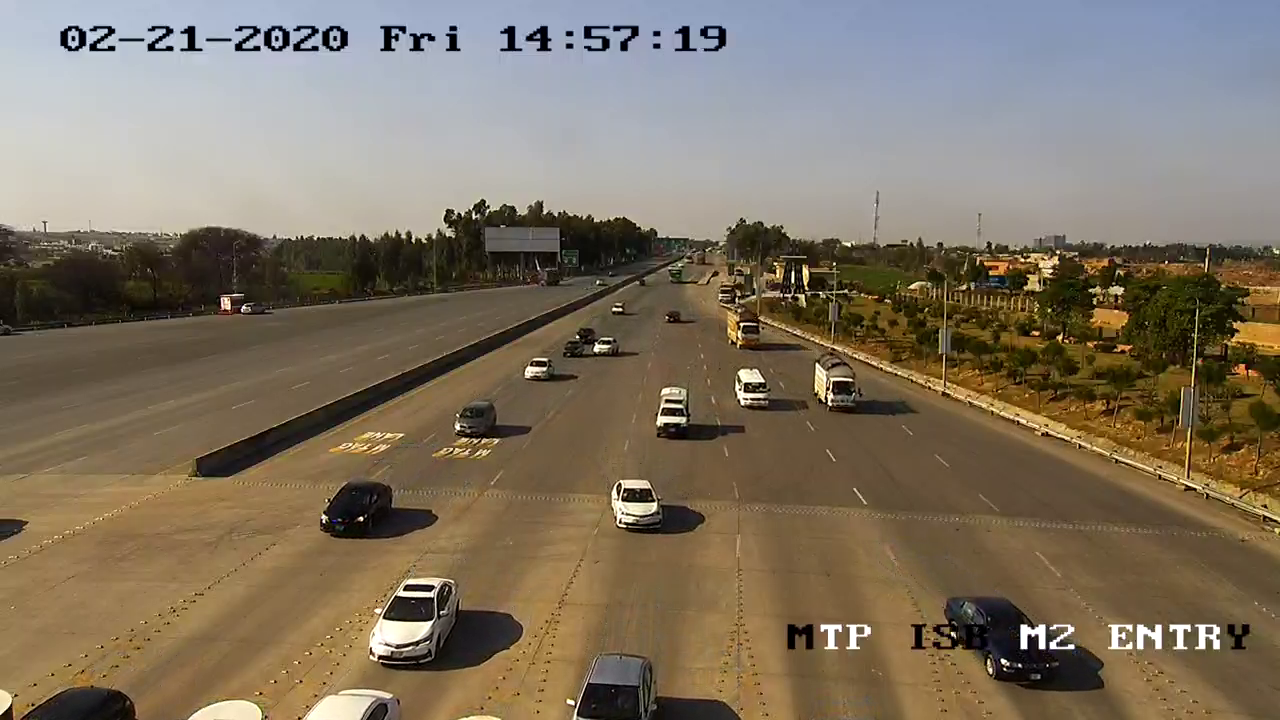f1: (355, 561, 471, 674), (557, 637, 669, 720), (307, 473, 404, 543), (597, 469, 674, 539), (646, 380, 700, 446), (445, 395, 505, 445), (725, 365, 775, 418)
